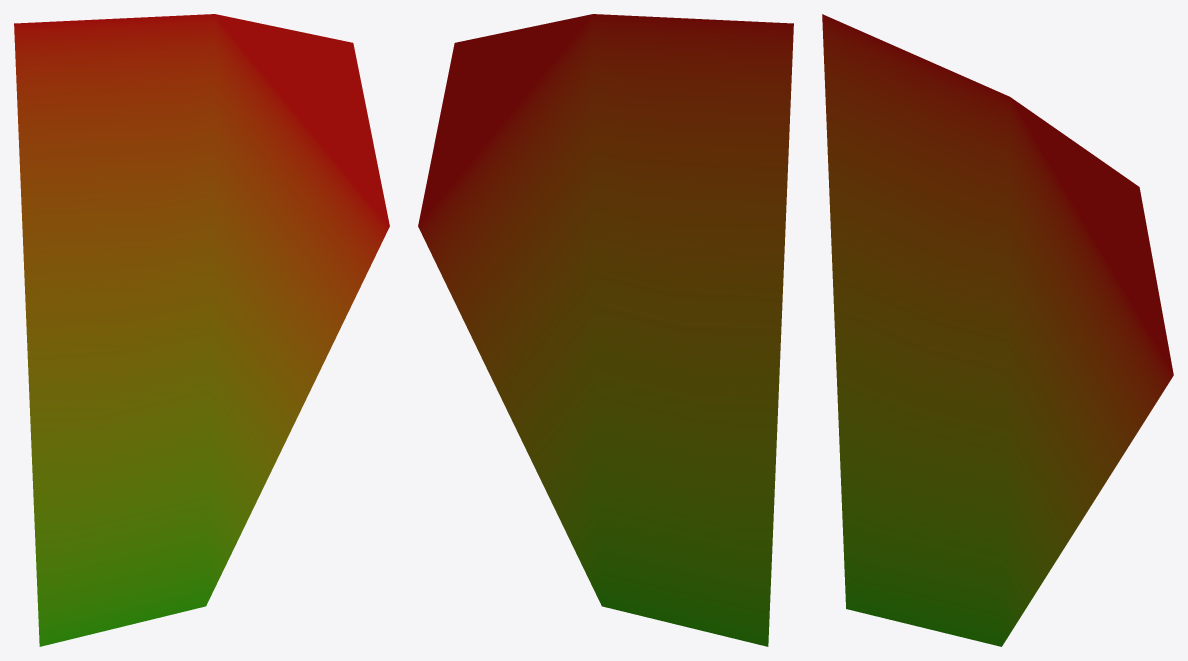
Rendered from Spotted Laurel_LOD3_Var2_sfDik.fbx.
The picture shows the model from 3 angles, left to right: view 1: azimuth 30°, elevation 25°; view 2: azimuth 150°, elevation 25°; view 3: azimuth 330°, elevation 25°; orthographic projection. The views are drawn at different scales.
Parts seen in each view (by area): view 1: _5849_Var2_LOD3; view 2: _5849_Var2_LOD3; view 3: _5849_Var2_LOD3.
Part boxes in pixels (left/top/right/bottom): _5849_Var2_LOD3: left=14, top=14, right=389, bottom=646; _5849_Var2_LOD3: left=418, top=14, right=793, bottom=646; _5849_Var2_LOD3: left=822, top=14, right=1173, bottom=646.
Bounding box in the file's own units: 59.42 × 95.12 × 7.63e-06.
